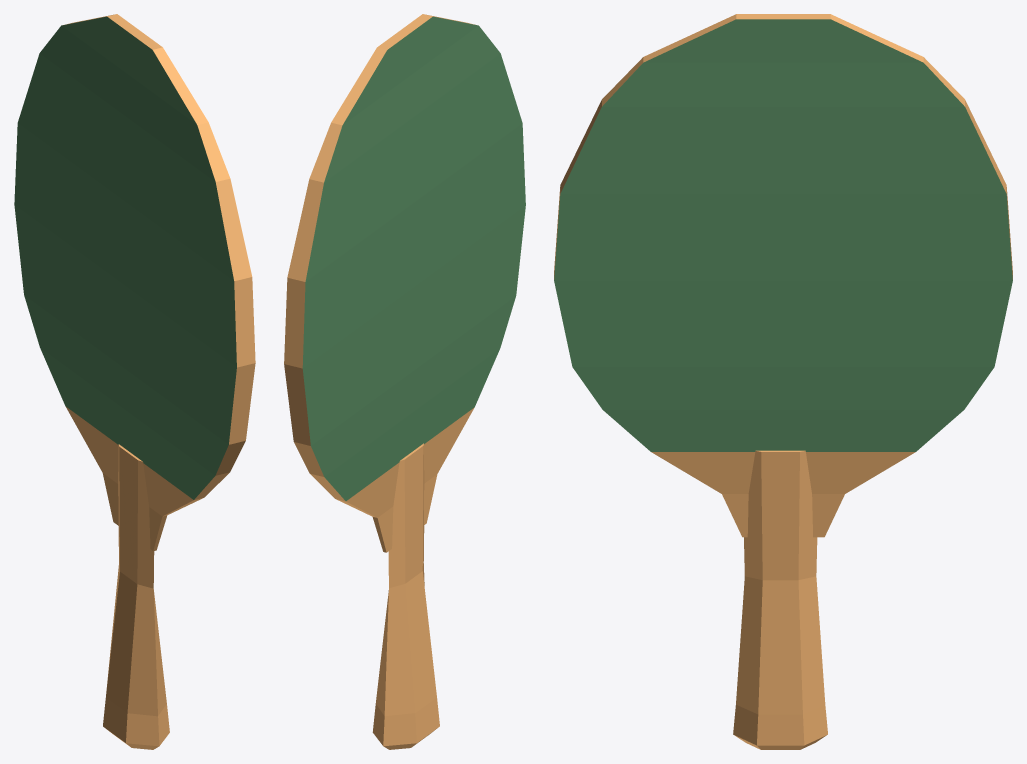
File: pingpongpaddle-green.fbx
3 views of the same model, side by side, from view 1: azimuth 30°, elevation 25°; view 2: azimuth 150°, elevation 25°; view 3: azimuth 270°, elevation 25° (orthographic). The views are drawn at different scales.
Visible parts, largest first — view 1: Cube.001; view 2: Cube.001; view 3: Cube.001.
Part boxes in pixels (x1,y1,x2,y2): Cube.001: [14, 14, 255, 749]; Cube.001: [284, 14, 525, 749]; Cube.001: [554, 14, 1012, 749].
Bounding box in the file's own units: 40.78 × 623 × 357.
